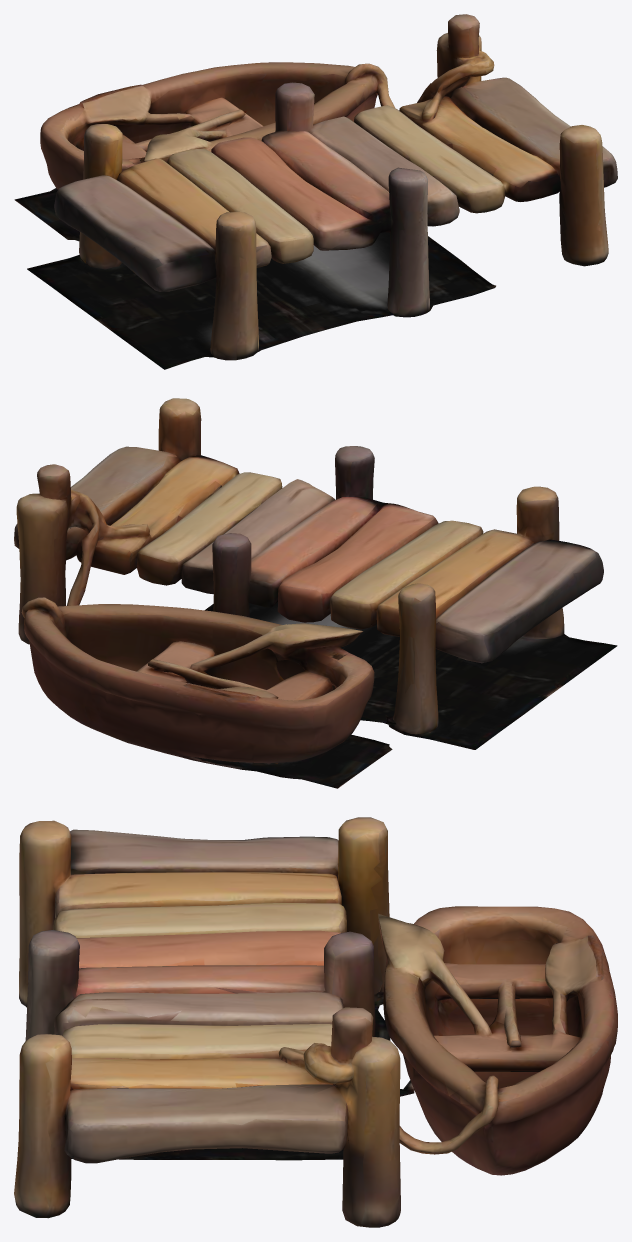
Rendered from dock.glb.
3 renders of one model, top to bottom at view 1: azimuth 30°, elevation 25°; view 2: azimuth 150°, elevation 25°; view 3: azimuth 270°, elevation 25°, orthographic. The views are drawn at different scales.
Parts seen in each view (by area): view 1: low; view 2: low; view 3: low.
Boxes of the visible parts, <box> form: low: <box>14,14,617,369</box>; low: <box>14,398,617,788</box>; low: <box>14,817,617,1227</box>.
Size of the model in its own units: 6.13 by 2 by 5.34.
Materials: 1 (1 with a texture image).
